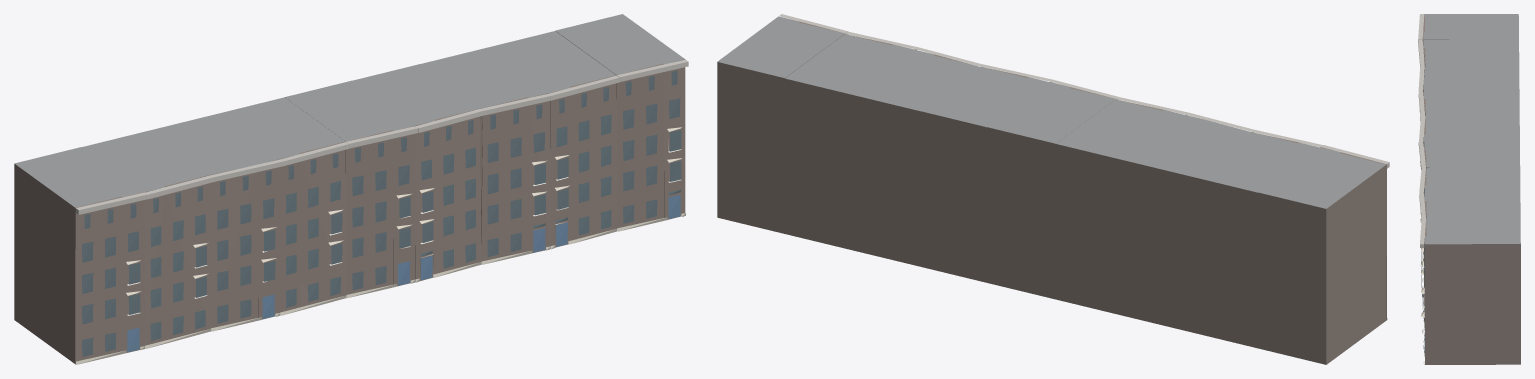
File: chunk-face-afrikanerplein-25-55-r1.lod2.glb
3 renders of one model, left to right at view 1: azimuth 30°, elevation 25°; view 2: azimuth 150°, elevation 25°; view 3: azimuth 270°, elevation 25°, orthographic. The views are drawn at different scales.
Parts seen in each view (by area): view 1: lod2; view 2: lod2; view 3: lod2.
Part boxes in pixels (left/top/right/bottom): lod2: left=14, top=14, right=688, bottom=364; lod2: left=717, top=14, right=1389, bottom=364; lod2: left=1418, top=14, right=1520, bottom=364.
Size of the model in its own units: 60.85 by 14.91 by 11.48.
